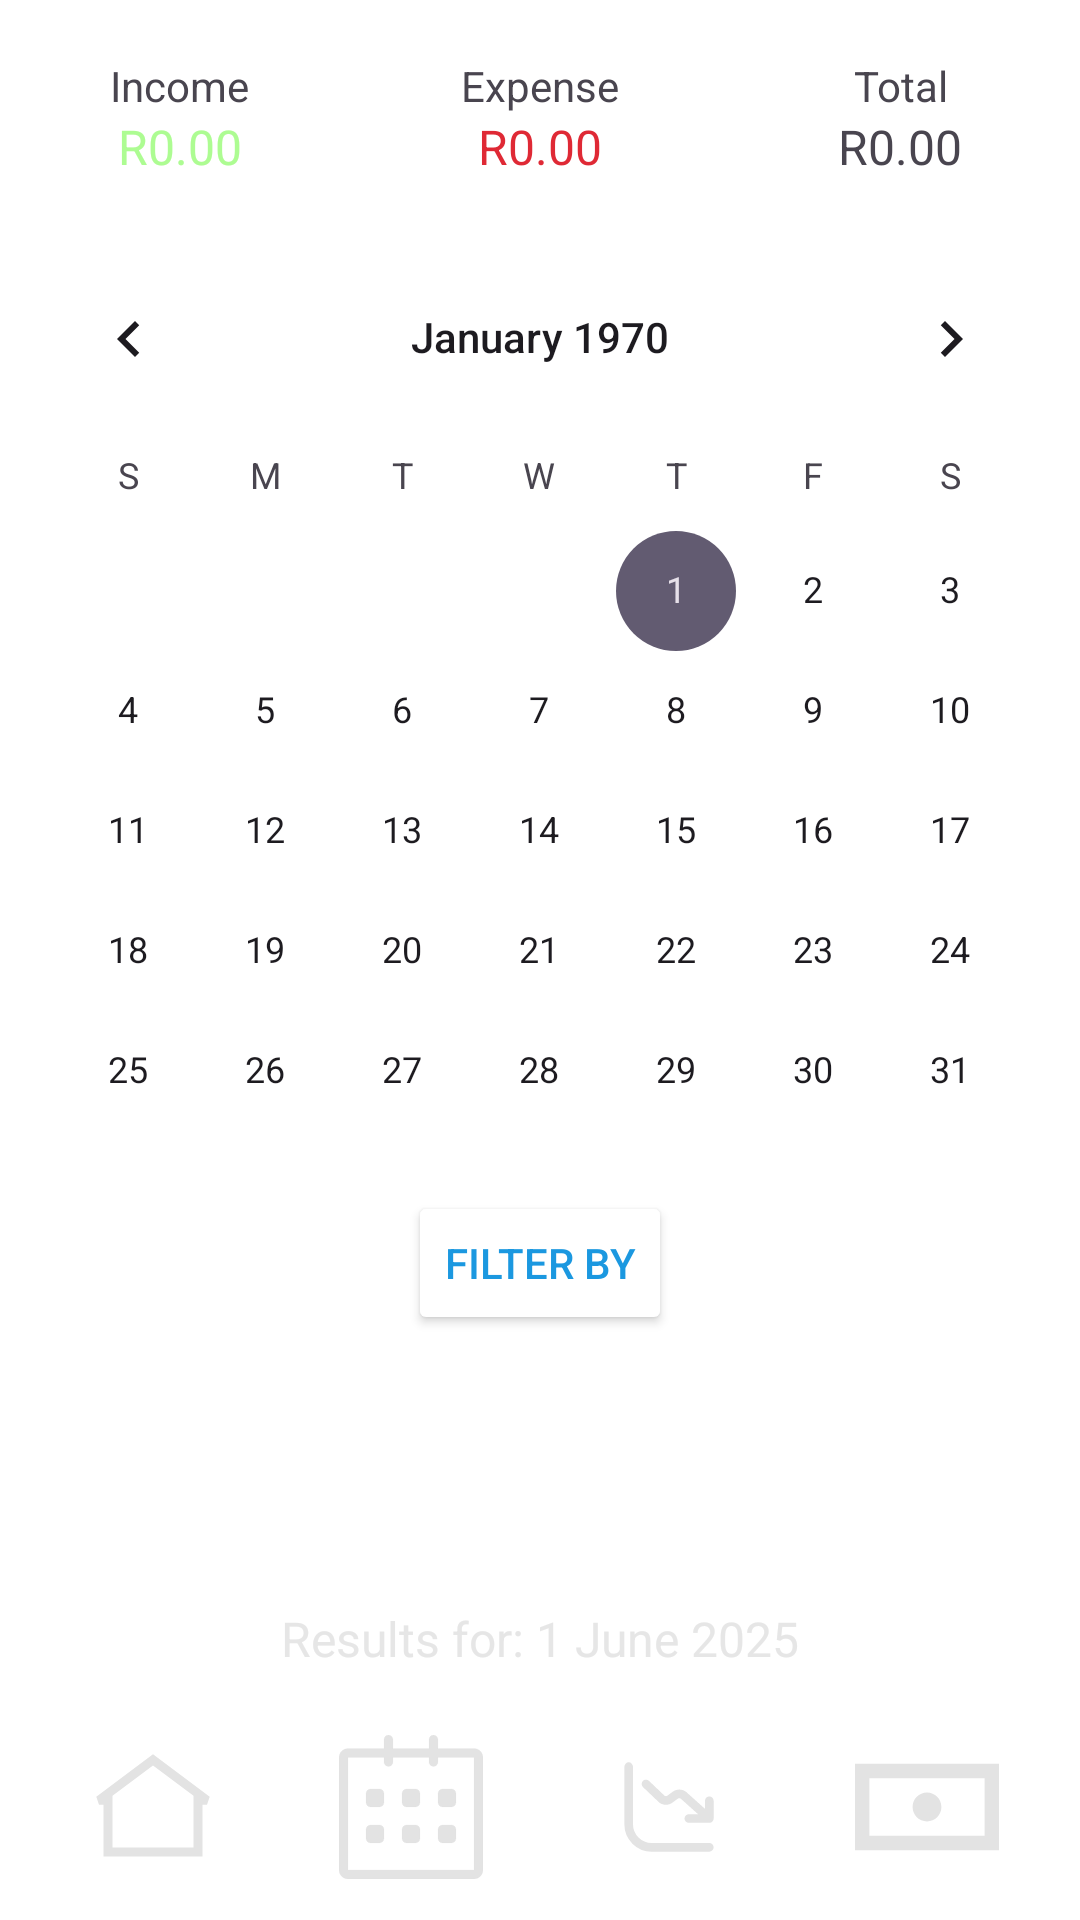

Named icons in this screenshot (1080px×1920px) and their bounding boxes, bbox(x1, y1, x2, y2):
Calendar: bbox(339, 1735, 483, 1879)
Home: bbox(97, 1755, 209, 1856)
